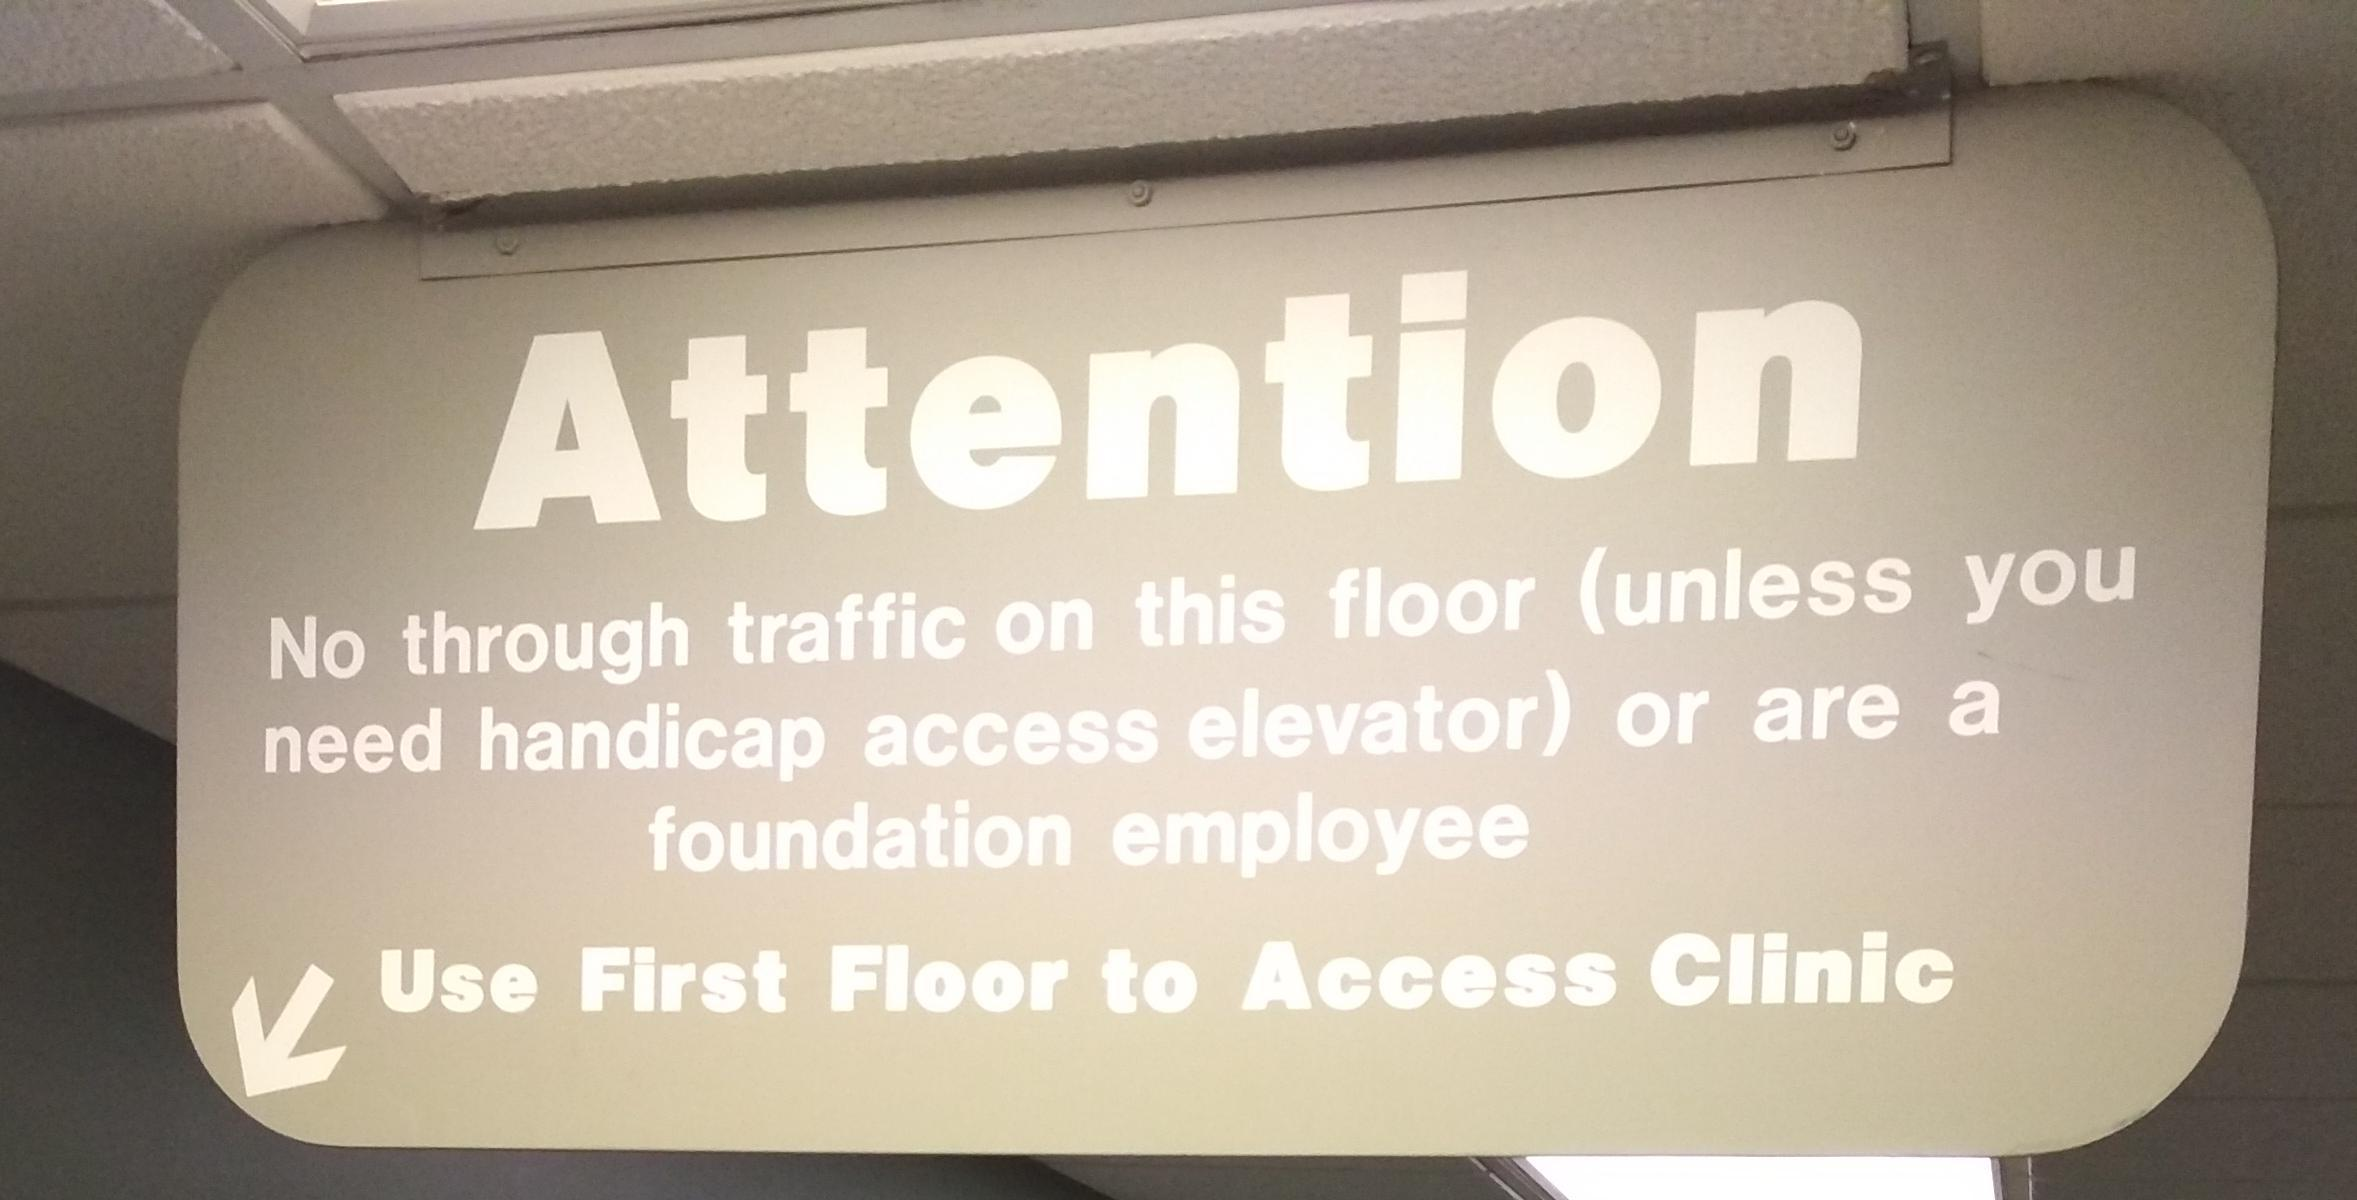sign: (179, 84, 2282, 1154)
